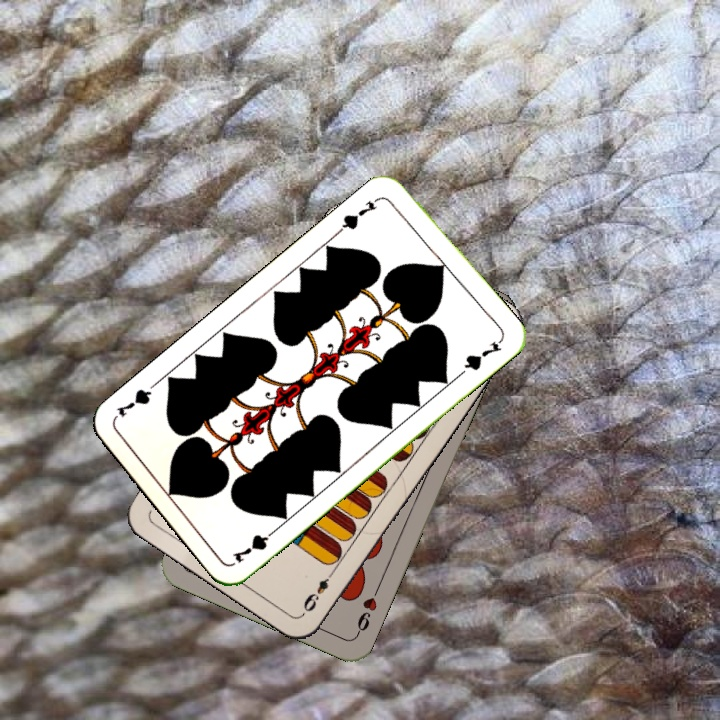E9: (299, 565, 339, 616)
G7: (228, 523, 281, 566), (334, 193, 384, 236)
H9: (352, 582, 383, 638)
